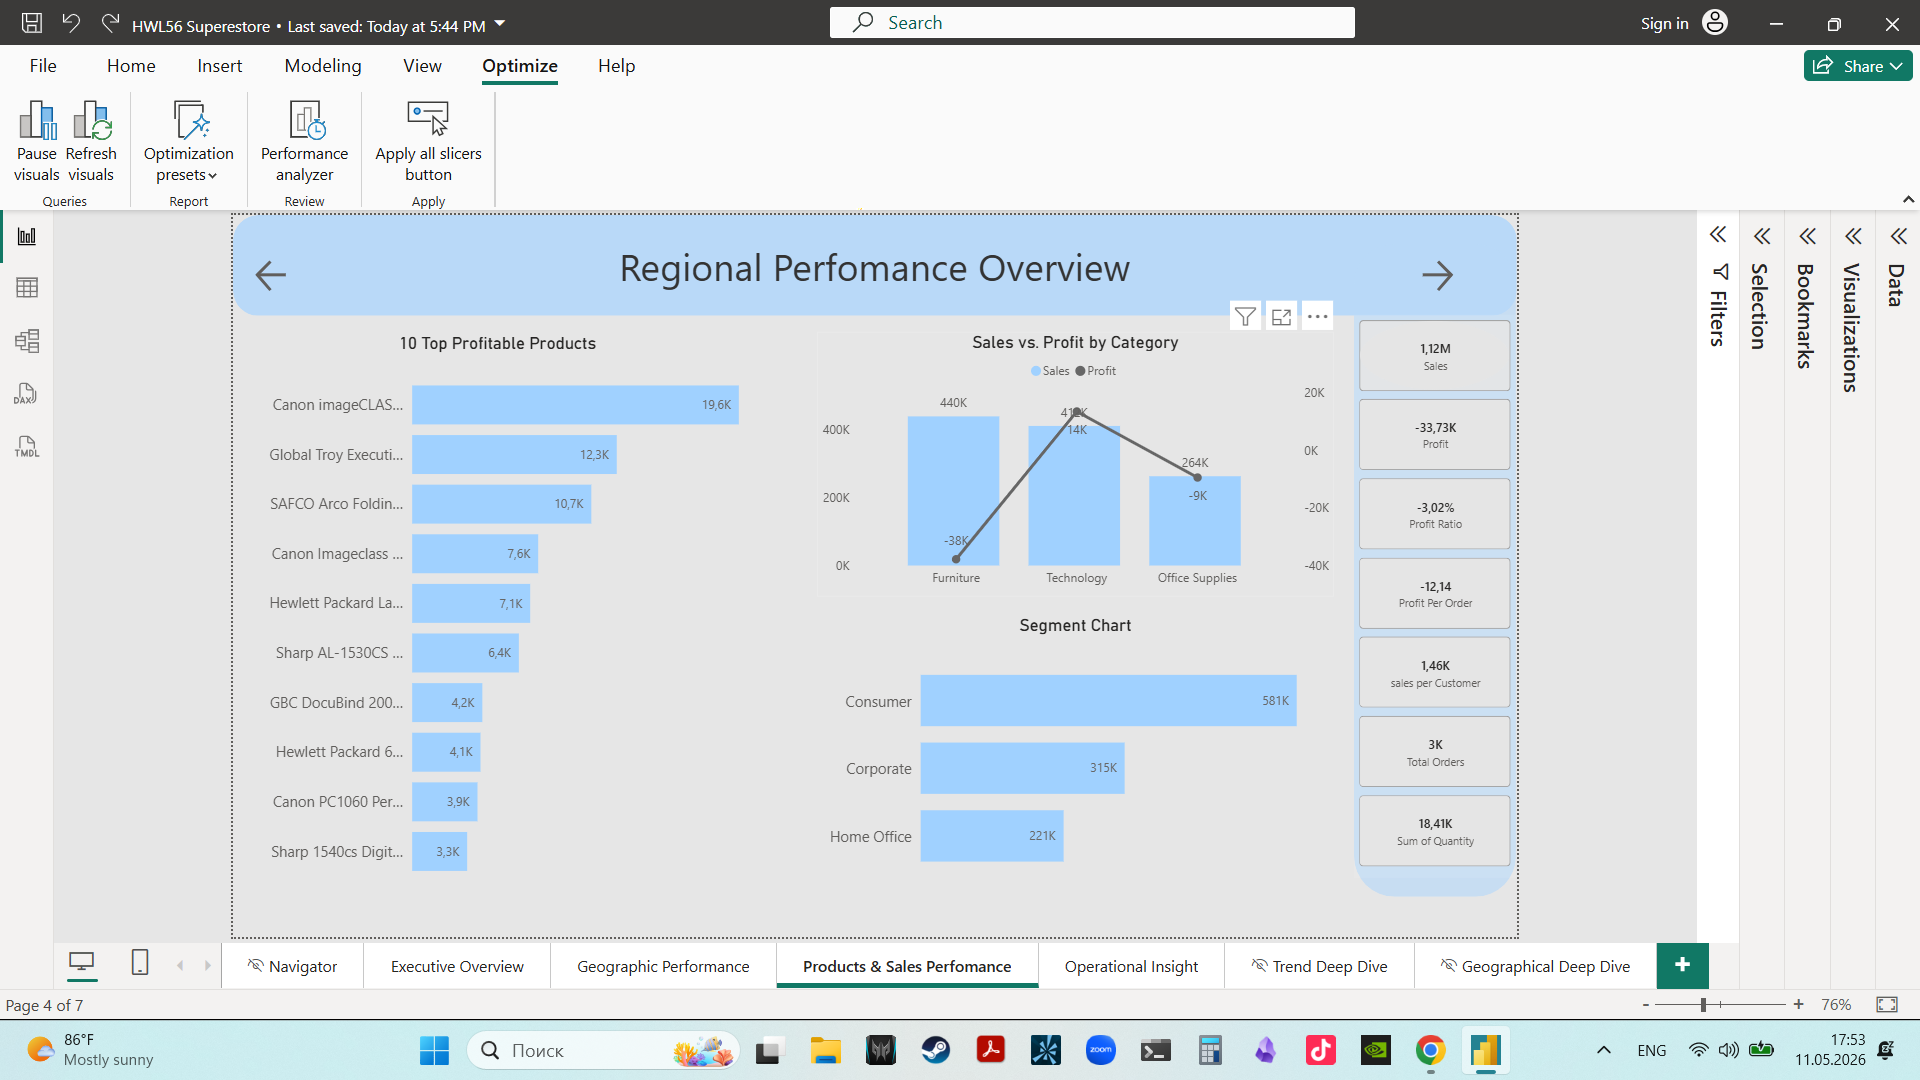

The page's visual inventory and layout, read from the dashboard file:
{"tool":"powerbi","page":{"name":"Products & Sales Perfomance","canvas":[1280,720],"ordinal":3},"visuals":[{"type":"textbox","box":[0,0,1279.7,66.2],"z":0},{"type":"shape","box":[0,0,1280.3,100.6],"z":1000},{"type":"shape","box":[1118.2,29.3,161.7,651.1],"z":2000},{"type":"cardVisual","fields":{"Data":["Measure.Sales","Measure.Profit","Measure.Profit Ratio","Measure.Profit per Order","Measure.sales per Customer","Measure.Total Orders","Sum(Sample - Superstore_Orders.Quantity)"]},"box":[1118.2,99,161.7,561.9],"z":3000},{"type":"clusteredBarChart","title":"10 Top Profitable Products","fields":{"Category":["Sample - Superstore_Orders.Product Name"],"Y":["Measure.Sales"]},"box":[18.3,117.8,490.8,561.5],"z":4000},{"type":"clusteredBarChart","title":"Segment Chart","fields":{"Category":["Sample - Superstore_Orders.Segment"],"Y":["Measure.Sales"]},"box":[582.4,399.2,515.7,280.1],"z":5000},{"type":"lineClusteredColumnComboChart","title":"Sales vs. Profit by Category","fields":{"Category":["Sample - Superstore_Orders.Category"],"Y":["Measure.Sales"],"Y2":["Measure.Profit"]},"box":[582.3,117,515.5,263.3],"z":6000},{"type":"actionButton","box":[18.3,40.6,99.5,40.6],"z":7000},{"type":"actionButton","box":[1180.6,40.6,99.5,40.6],"z":8000}]}

Visuals, with their boxes on the page's 1280x720 design canvas (x1, y1, x2, y2). These are canvas units, not pixel positions in the 1920x1080 screenshot, which may show the page scaled, cropped or inside an application window:
textbox: BBox(0, 0, 1280, 66)
shape: BBox(0, 0, 1280, 101)
shape: BBox(1118, 29, 1280, 680)
cardVisual - Measure.Sales x Measure.Profit: BBox(1118, 99, 1280, 661)
"10 Top Profitable Products" clusteredBarChart: BBox(18, 118, 509, 679)
"Segment Chart" clusteredBarChart: BBox(582, 399, 1098, 679)
"Sales vs. Profit by Category" lineClusteredColumnComboChart: BBox(582, 117, 1098, 380)
actionButton: BBox(18, 41, 118, 81)
actionButton: BBox(1181, 41, 1280, 81)
